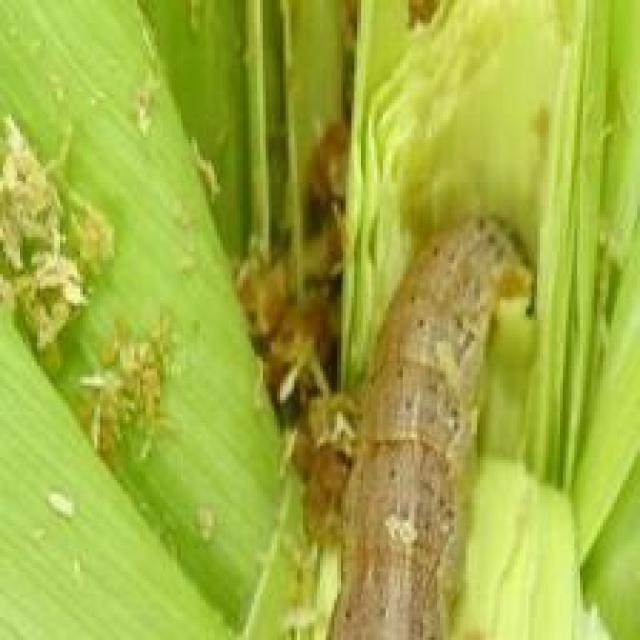Plaga: (328, 184, 534, 640)
